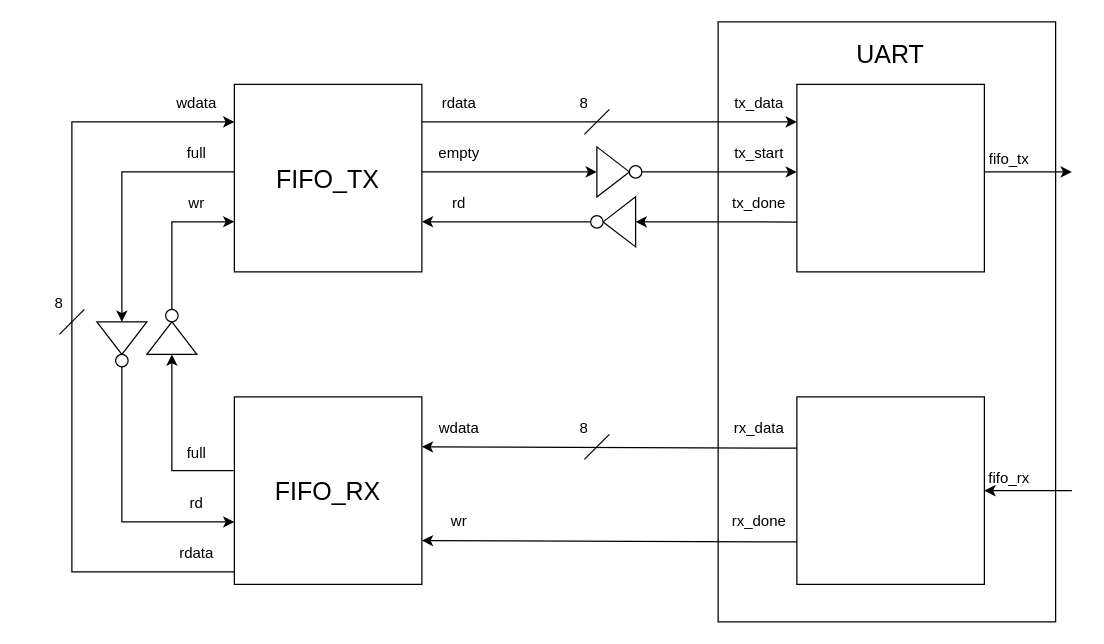
This 1104x644 diagram has some shape labels left out. Here are the shapes that lost their labels. From the top down, the centre of each, then its label:
At pixel 890 177: "TX".
At pixel 890 490: "RX".
